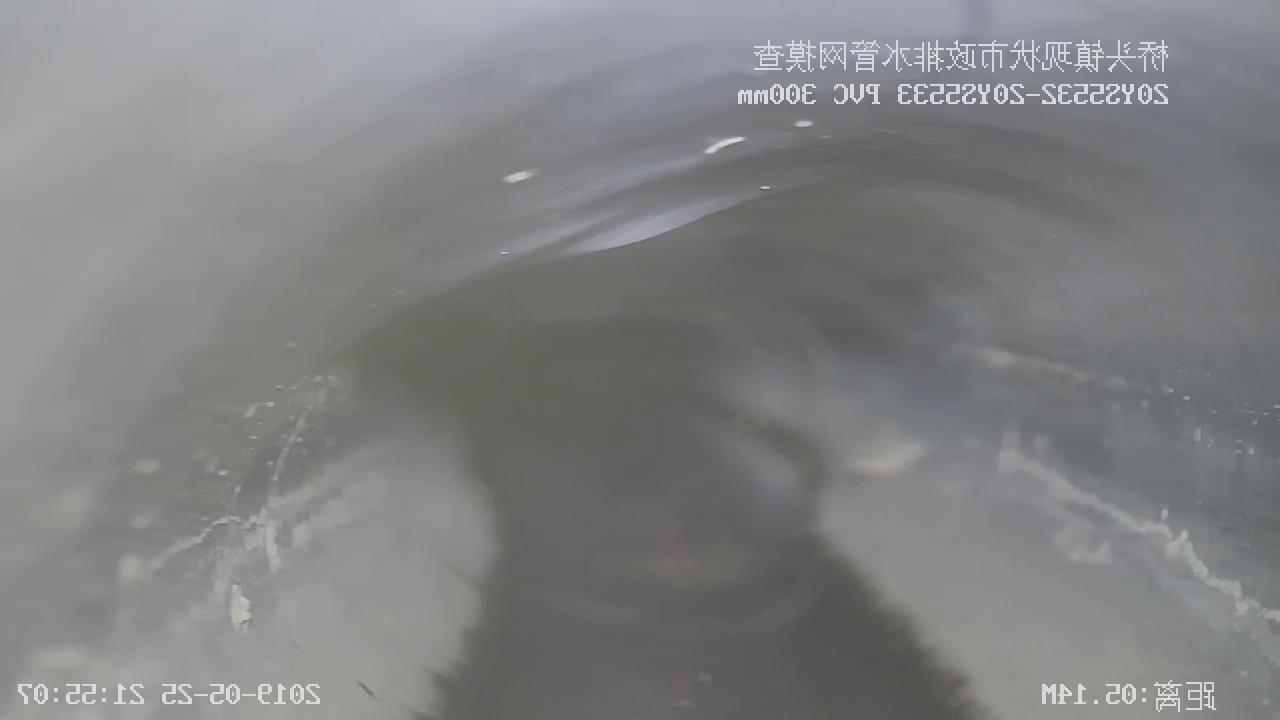BX: (397, 90, 885, 287)
